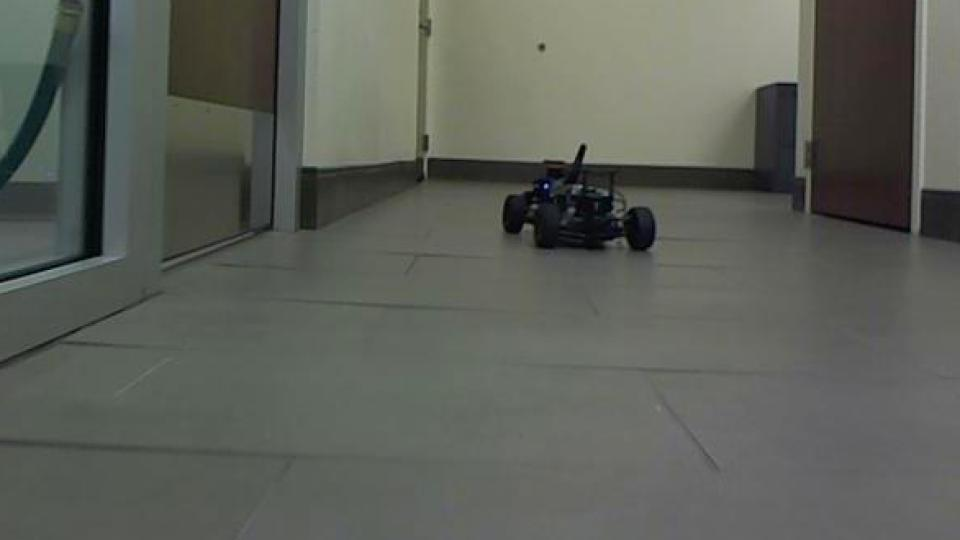car: (500, 140, 660, 255)
